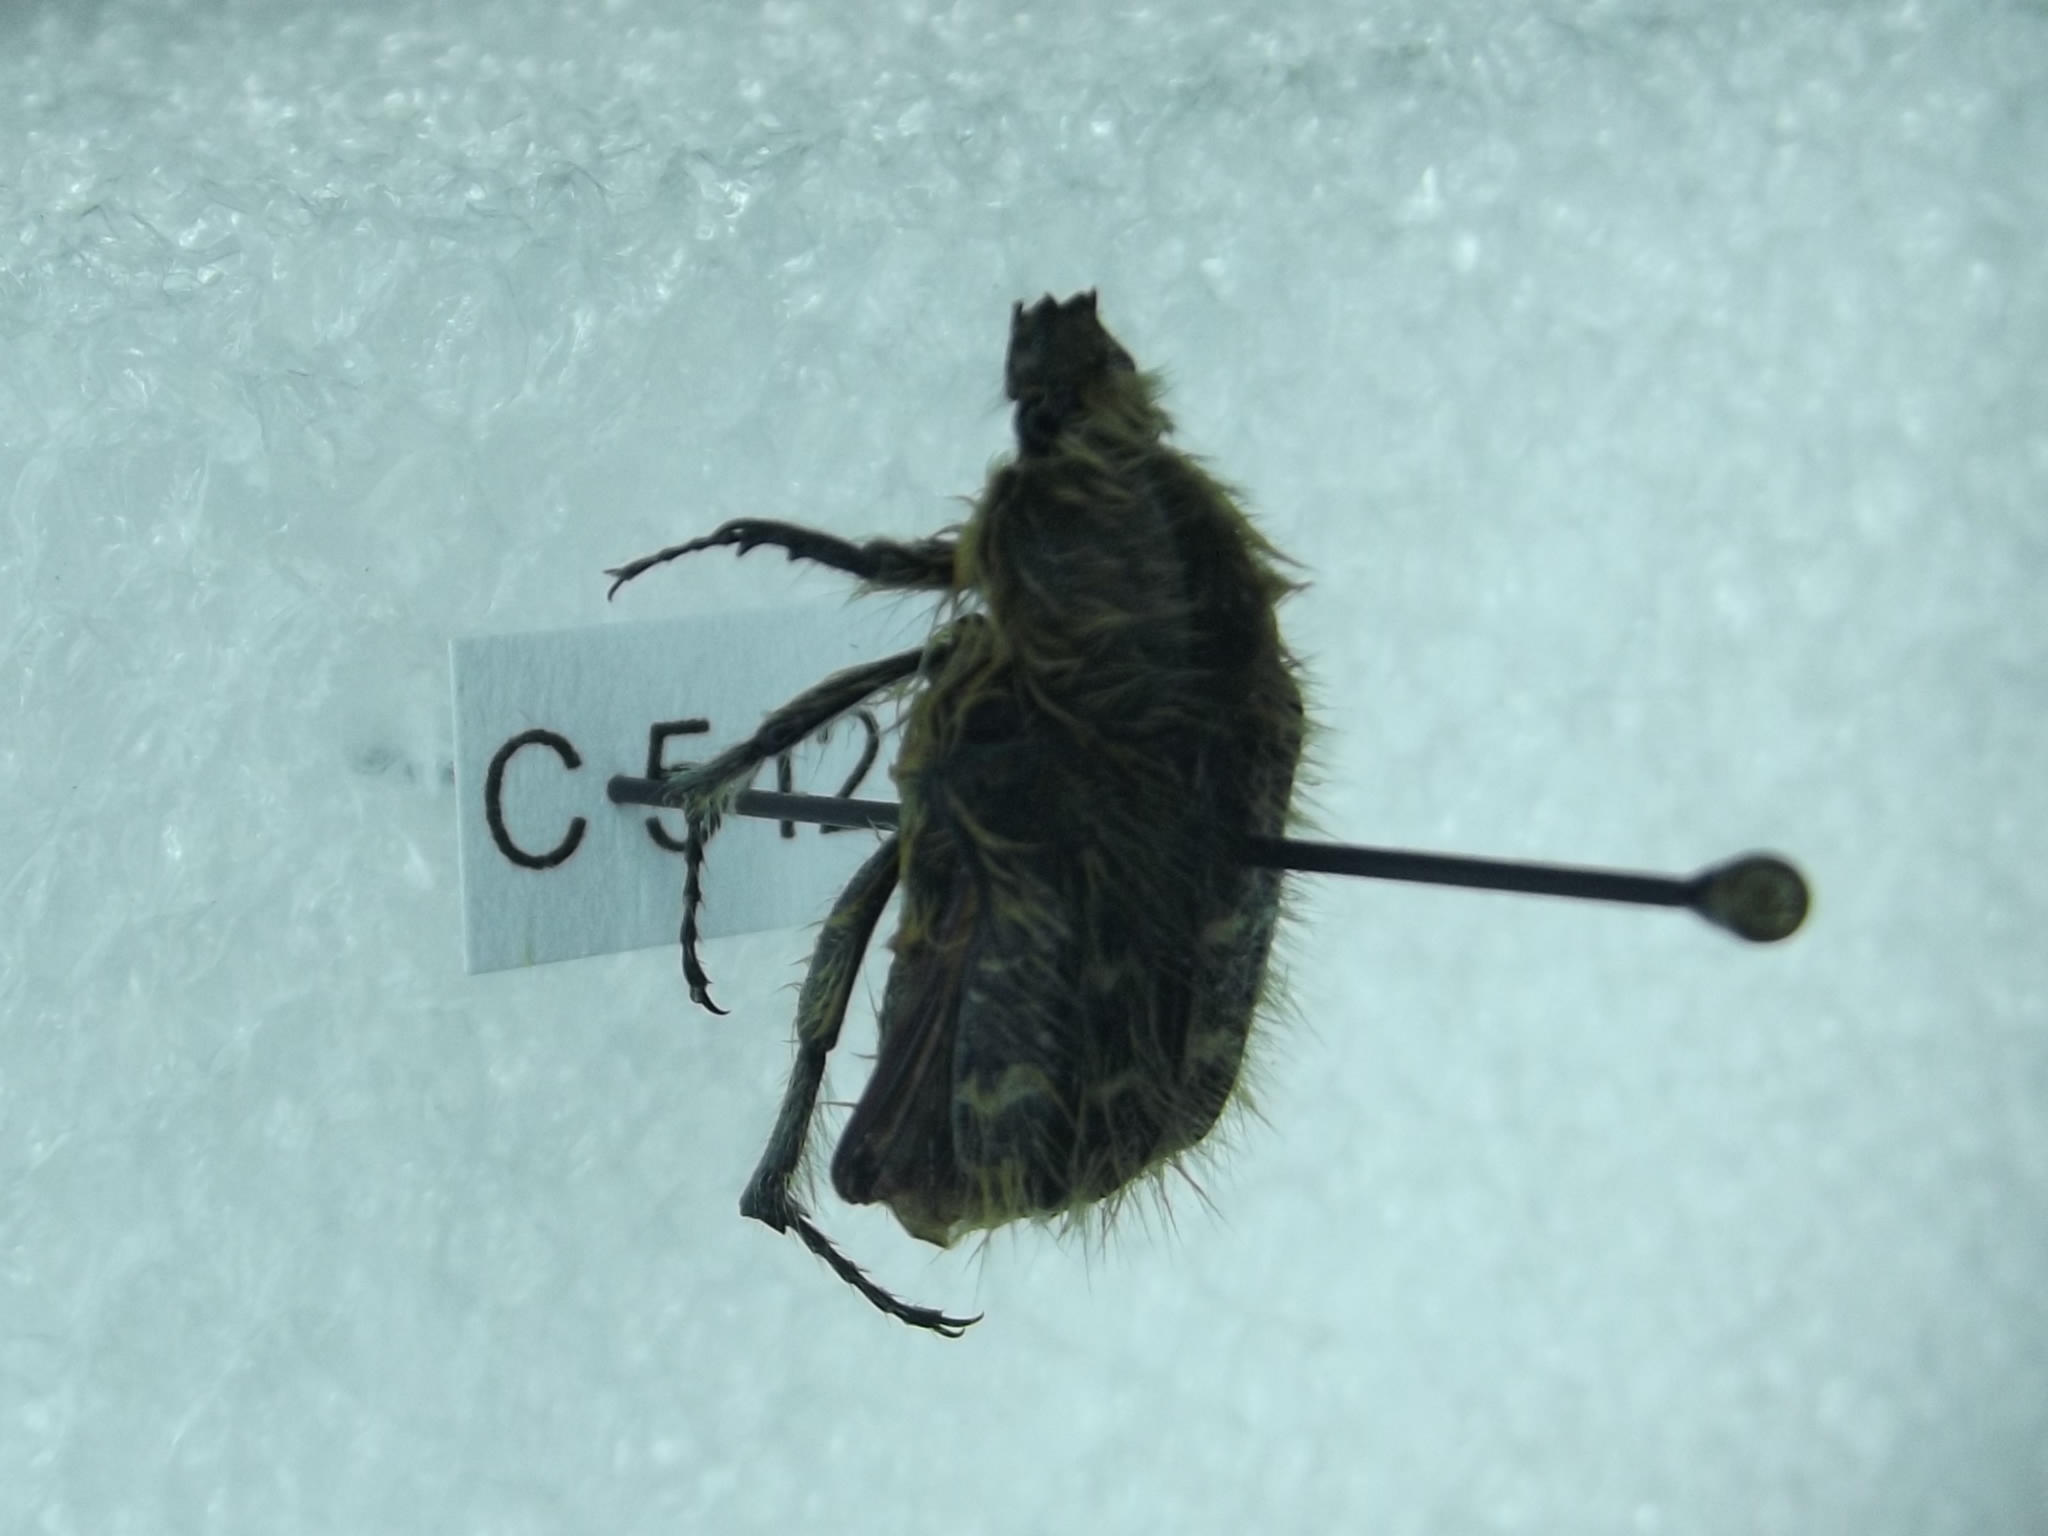Tropinota_hirta: (577, 266, 1374, 1371)
